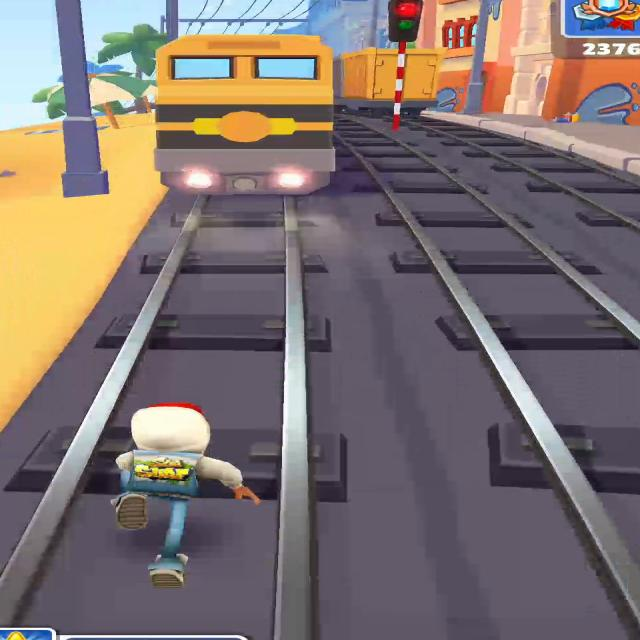train: (155, 35, 335, 195), (334, 48, 397, 116), (403, 49, 444, 115)
